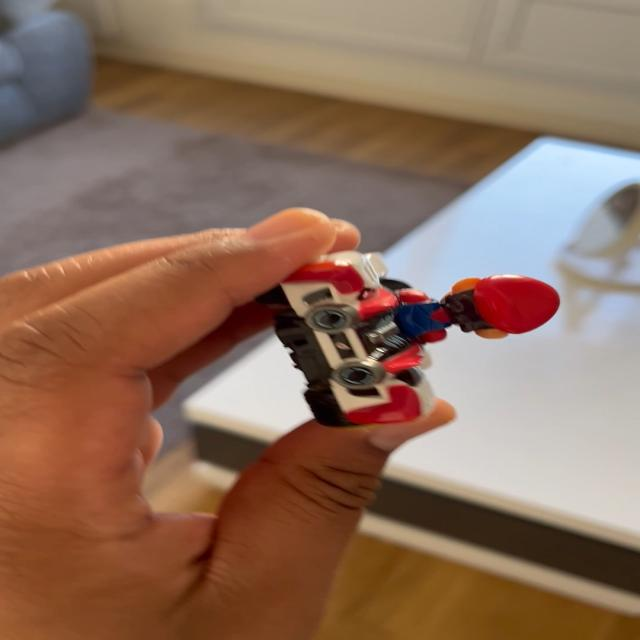mario: (241, 236, 589, 453)
